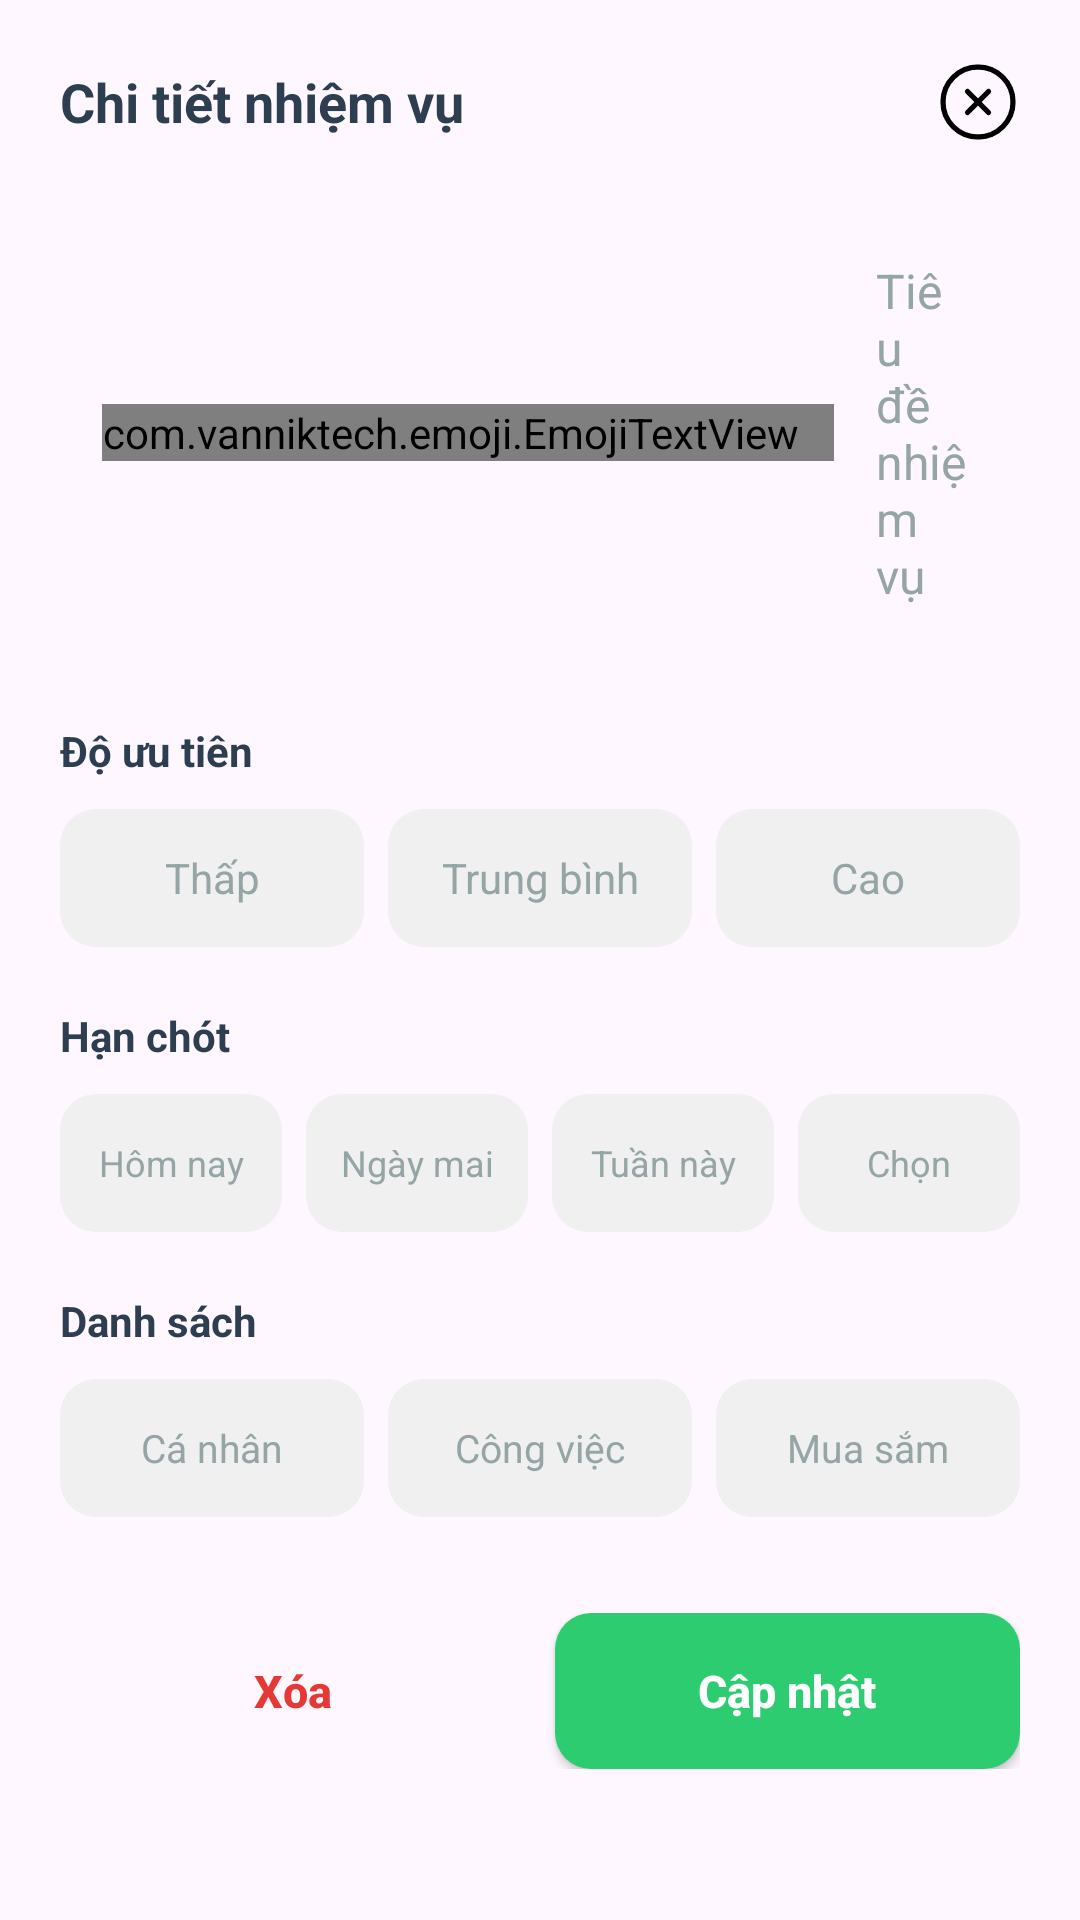

Where icons sit on this 1080px x 1920px app screen, as (x1, y1, x2, y2):
Đóng: (940, 64, 1016, 140)
